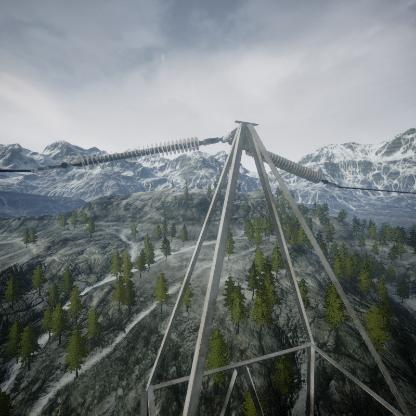insulator: (67, 133, 212, 171), (246, 142, 322, 184)
